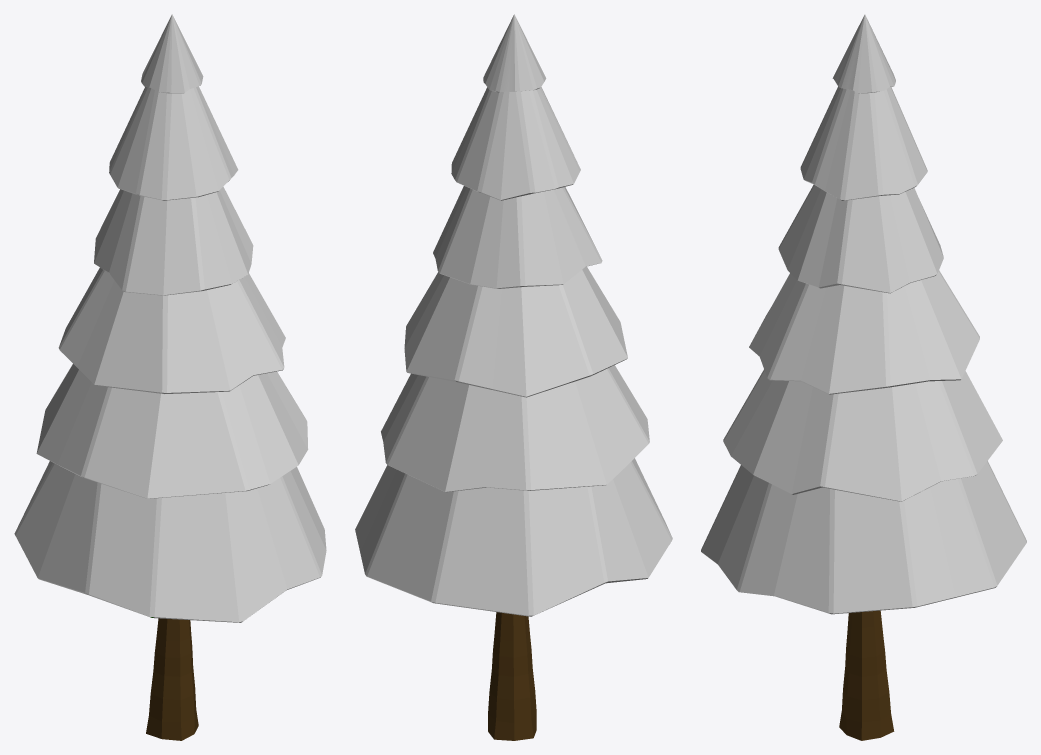
File: pine-tree-snow.glb
The picture shows the model from 3 angles, left to right: view 1: azimuth 30°, elevation 25°; view 2: azimuth 150°, elevation 25°; view 3: azimuth 270°, elevation 25°; orthographic projection.
Visible parts, largest first — view 1: Pine tree snow; view 2: Pine tree snow; view 3: Pine tree snow.
Boxes of the visible parts, x1,y1,x2,y2 form: Pine tree snow: (14,14,326,740); Pine tree snow: (355,14,672,740); Pine tree snow: (701,14,1026,740).
Size of the model in its own units: 7.99 by 20.24 by 8.36.
